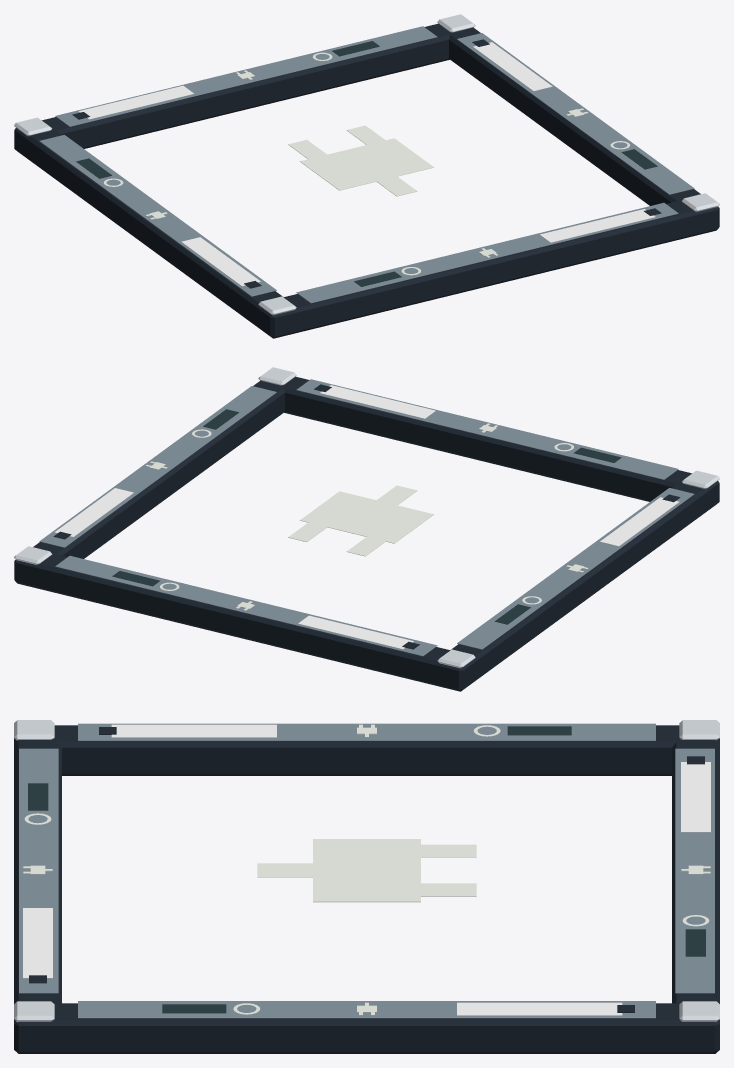
Rendered from UtilitySocket.fbx.
The picture shows the model from 3 angles, top to bottom: view 1: azimuth 30°, elevation 25°; view 2: azimuth 150°, elevation 25°; view 3: azimuth 270°, elevation 25°; orthographic projection. The views are drawn at different scales.
Visible parts, largest first — view 1: Rim.008, PlugSymbols, IdentityBands, PowerLamps; view 2: Rim.008, PlugSymbols, IdentityBands, PowerLamps; view 3: Rim.008, PlugSymbols, IdentityBands, PowerLamps.
Boxes of the visible parts, left/top/right/bottom form: Rim.008: left=14, top=14, right=719, bottom=338; PlugSymbols: left=145, top=70, right=588, bottom=257; IdentityBands: left=72, top=39, right=661, bottom=288; PowerLamps: left=76, top=41, right=657, bottom=286; Rim.008: left=14, top=367, right=719, bottom=691; PlugSymbols: left=145, top=423, right=588, bottom=610; IdentityBands: left=53, top=384, right=680, bottom=649; PowerLamps: left=112, top=409, right=621, bottom=624; Rim.008: left=14, top=720, right=719, bottom=1053; PlugSymbols: left=23, top=724, right=710, bottom=1015; IdentityBands: left=23, top=724, right=710, bottom=1015; PowerLamps: left=24, top=725, right=709, bottom=1014.
Size of the model in its own units: 0.94 by 0.057 by 0.94.
